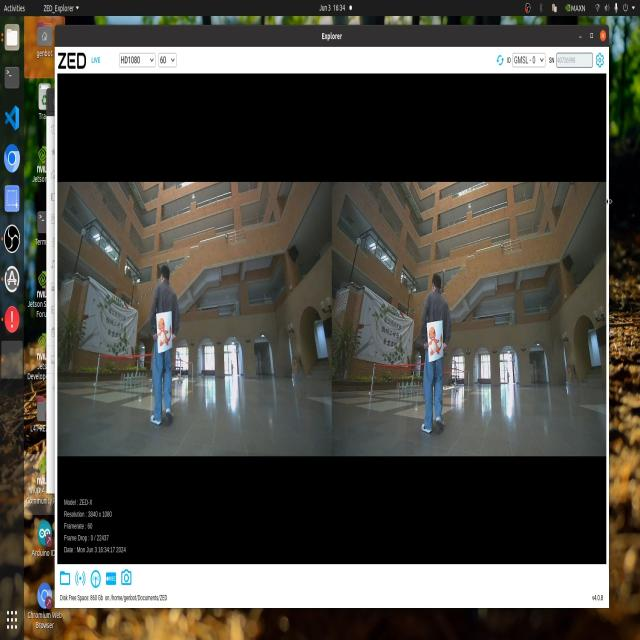red: (157, 312, 177, 348), (426, 322, 441, 354)
